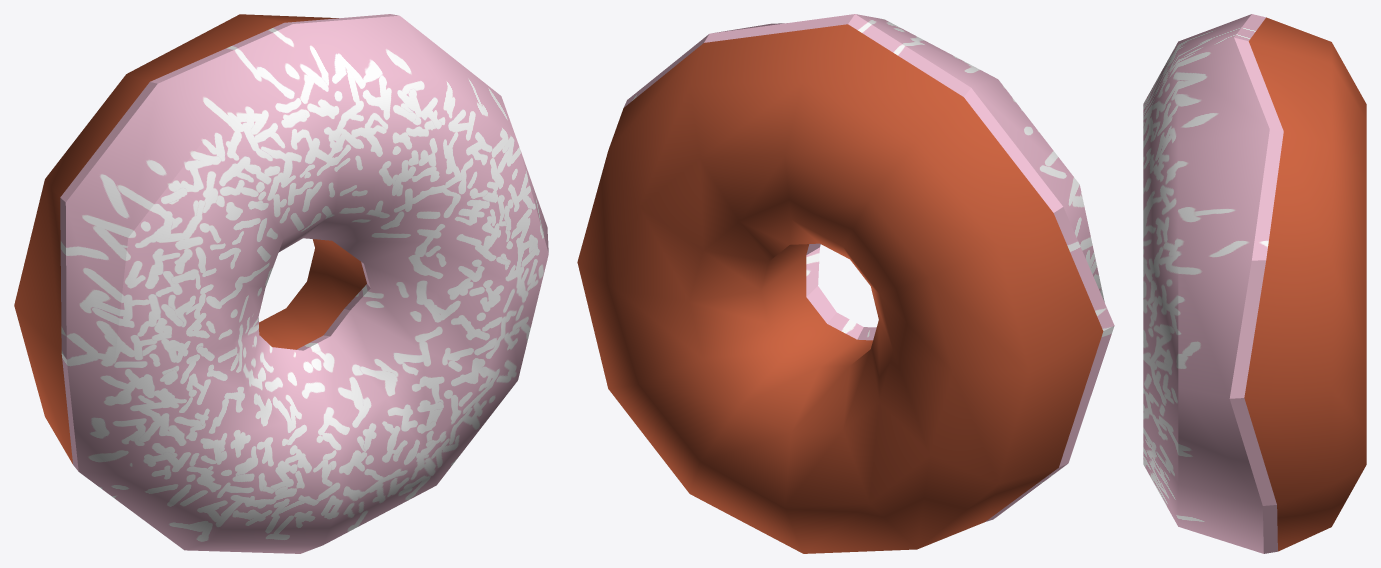
Rendered from donut_01.FBX.
3 views of the same model, side by side, from view 1: azimuth 30°, elevation 25°; view 2: azimuth 150°, elevation 25°; view 3: azimuth 270°, elevation 25° (orthographic). The views are drawn at different scales.
Parts seen in each view (by area): view 1: Circle001; view 2: Circle001; view 3: Circle001.
Boxes of the visible parts, x1,y1,x2,y2 form: Circle001: (14,14,548,553); Circle001: (577,14,1114,553); Circle001: (1143,14,1366,553).
Size of the model in its own units: 153 by 154 by 63.8.
